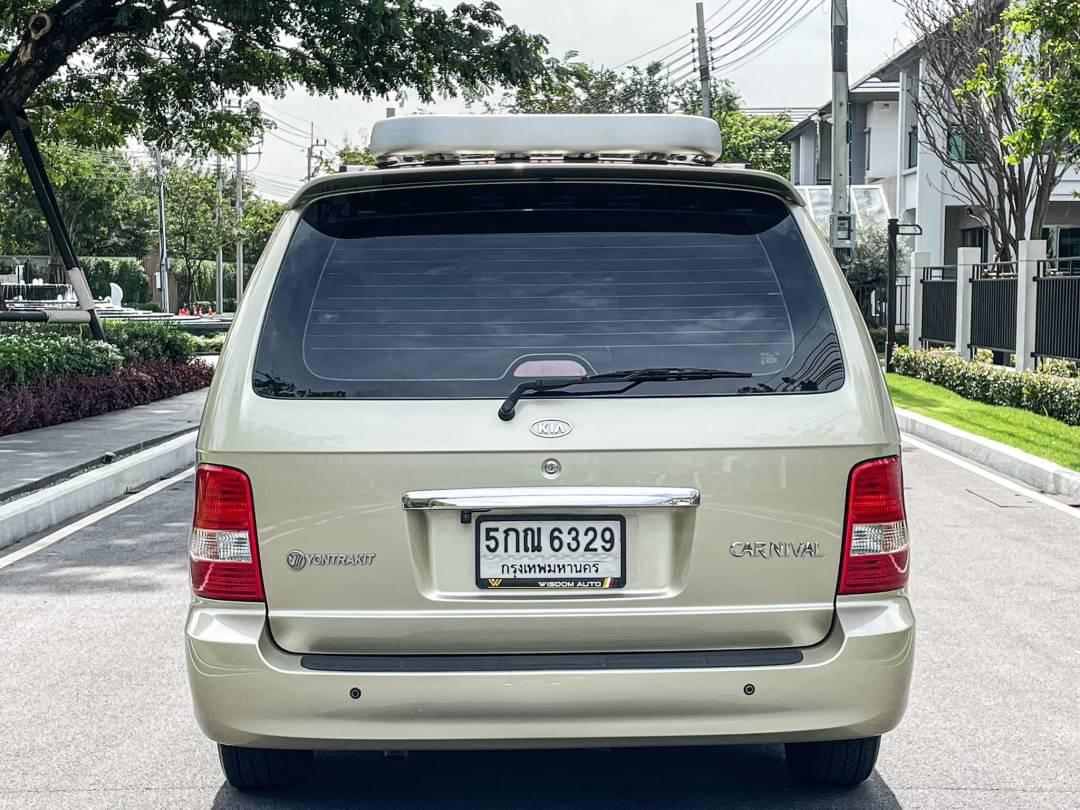license-plate: (474, 510, 636, 596)
